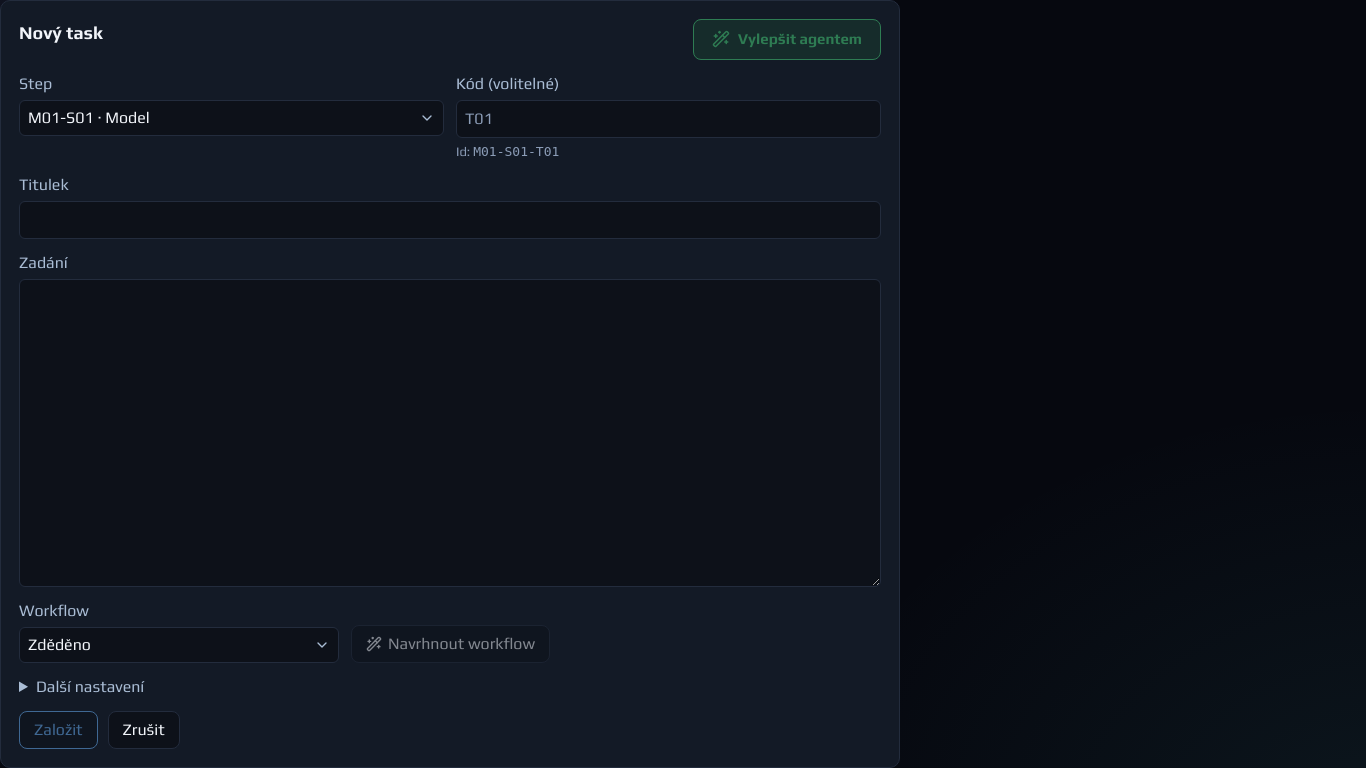
TaskForm › puts Vylepšit agentem at the top and says why it waits
Expected: the button with test id "improve" showing "Vylepšit agentem" is disabled, [693, 19, 881, 60]
Expected: the button "Navrhnout workflow" is disabled, [351, 625, 550, 663]
Step 1. Type "Nový" into the field with test id "title" → (450, 220), box [19, 201, 881, 239]
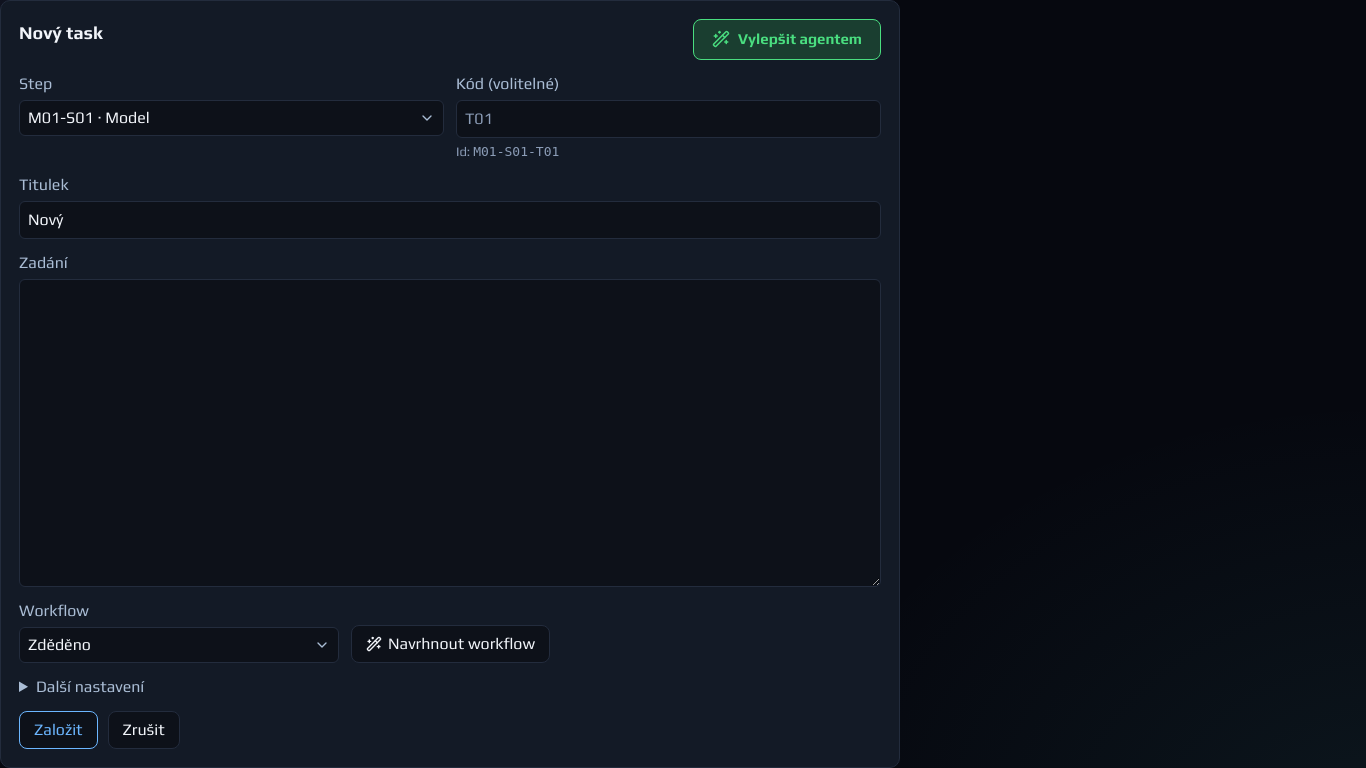
Expected: the button with test id "improve" showing "Vylepšit agentem" is enabled, [693, 19, 881, 60]
